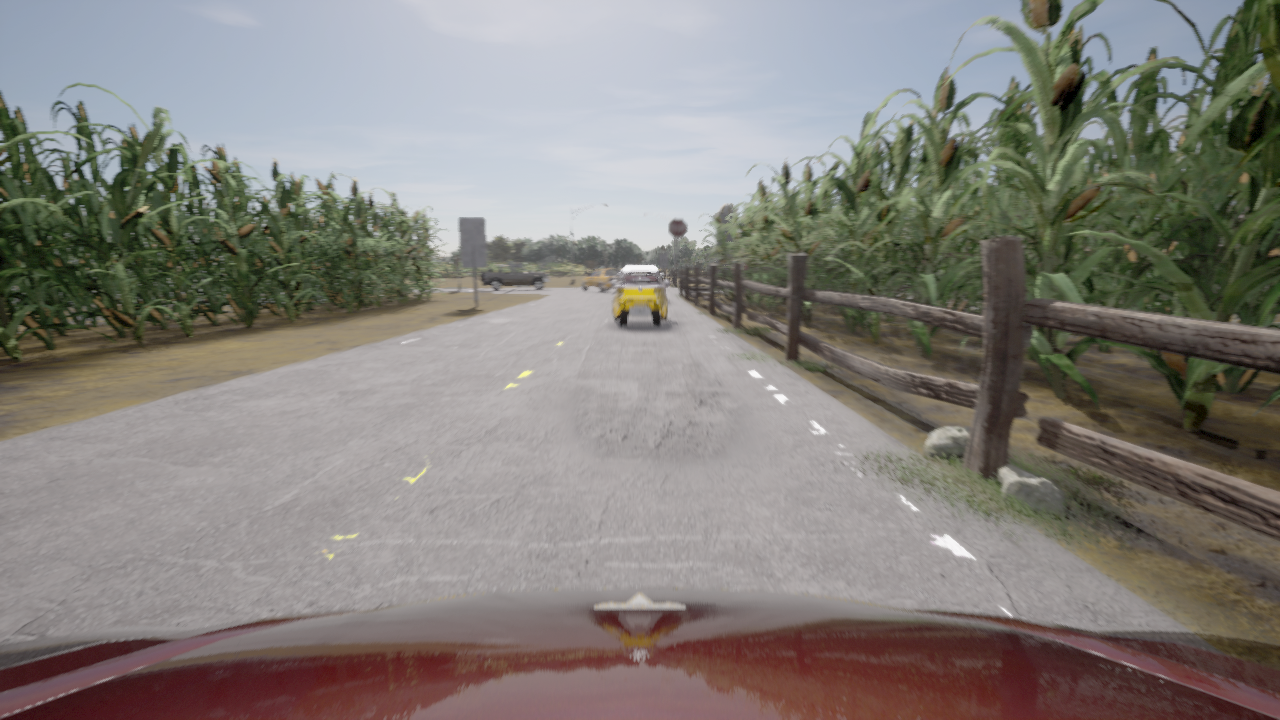cyclist: (0, 588, 1279, 719), (611, 266, 669, 326), (481, 263, 549, 290), (581, 267, 622, 292), (618, 273, 663, 277)
